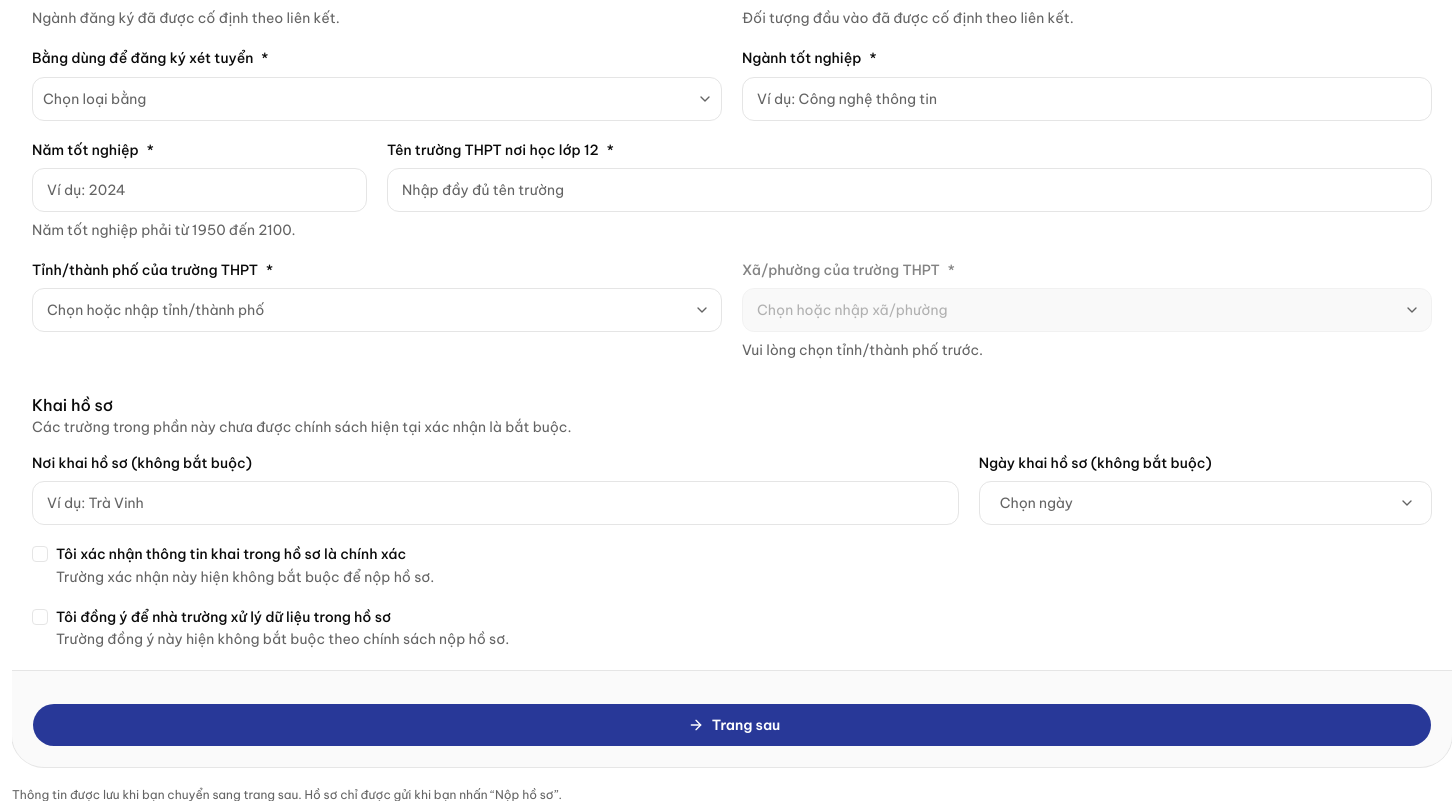
Test: student application form › focuses and scrolls to the first missing required field
(page scrolled)
Click the button "Trang sau" at (732, 725), box [32,703,1432,747]
(page scrolled)
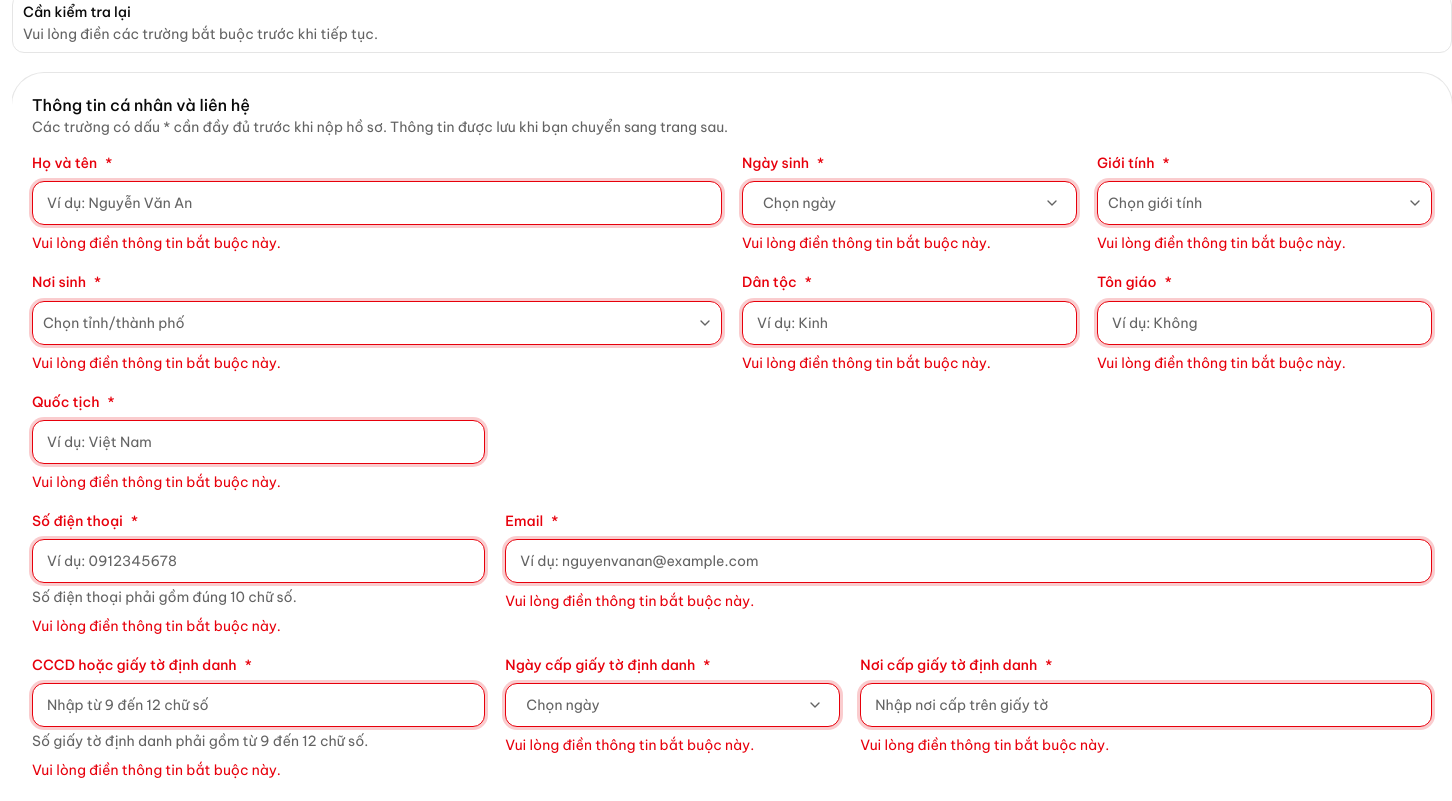
expect the text "Vui lòng điền các trường bắt buộc trước khi tiếp tục." is shown: met, box [23,25,378,43]
